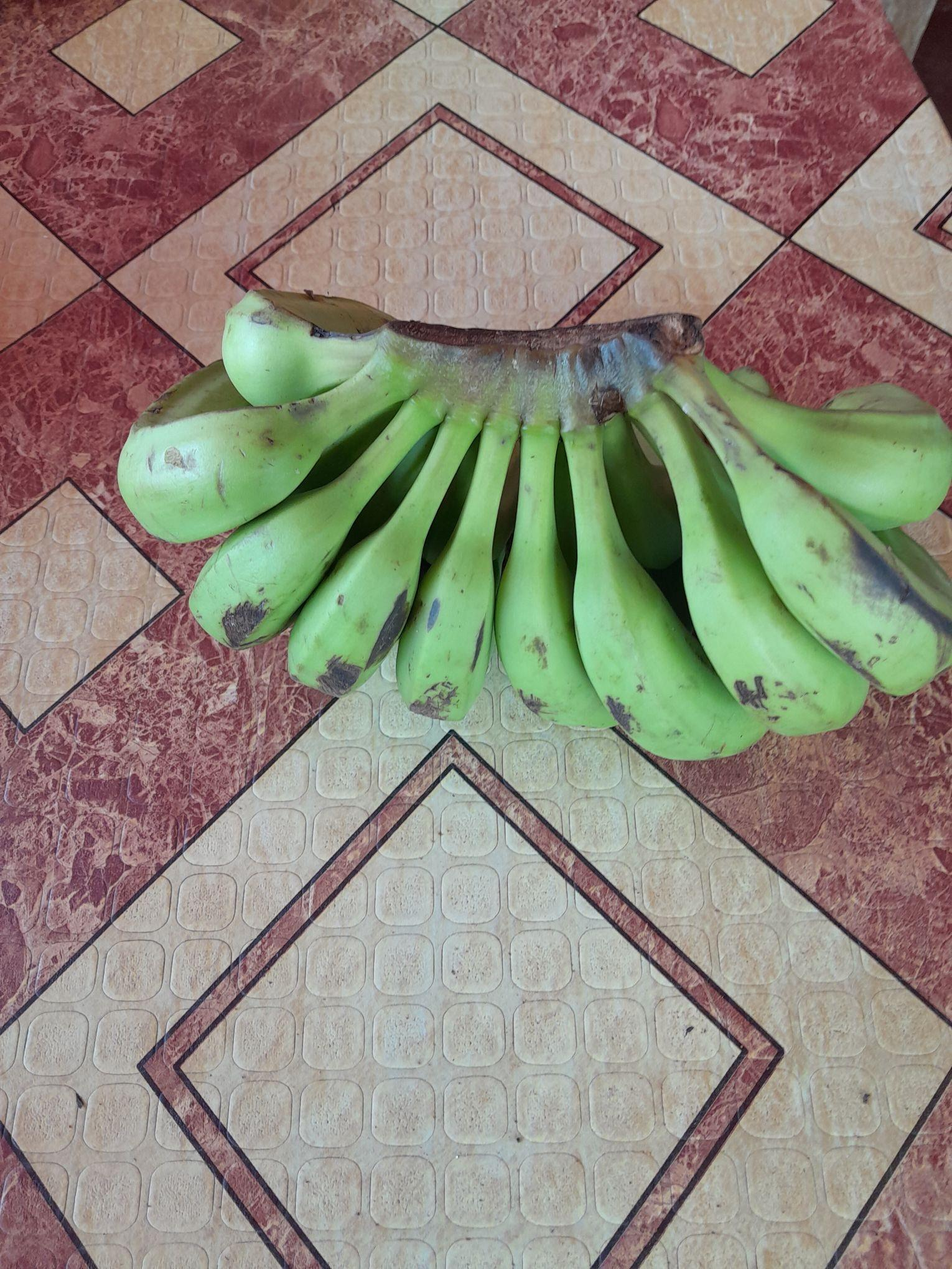Banana Unripe: (654, 357, 950, 696), (632, 392, 868, 736), (563, 426, 766, 760), (188, 399, 439, 649), (288, 409, 478, 696), (119, 359, 412, 543), (704, 361, 952, 530), (397, 414, 518, 721), (496, 424, 615, 726), (223, 288, 392, 406)
